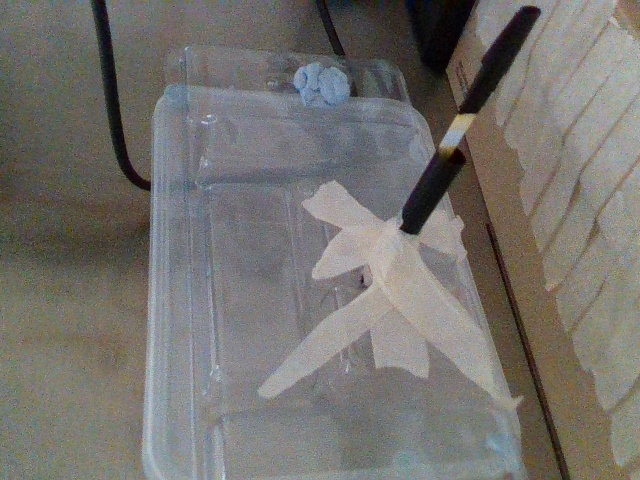test_strip: (438, 2, 540, 156)
